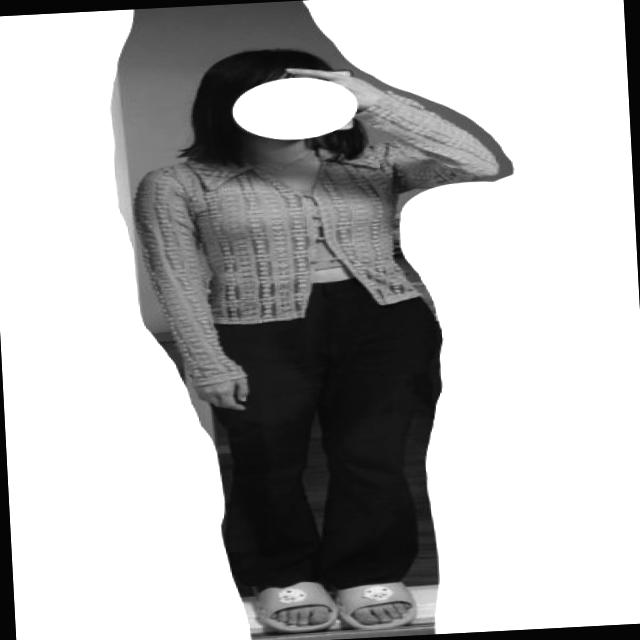cardigan: (136, 84, 504, 389)
denimpants: (208, 271, 438, 598)
